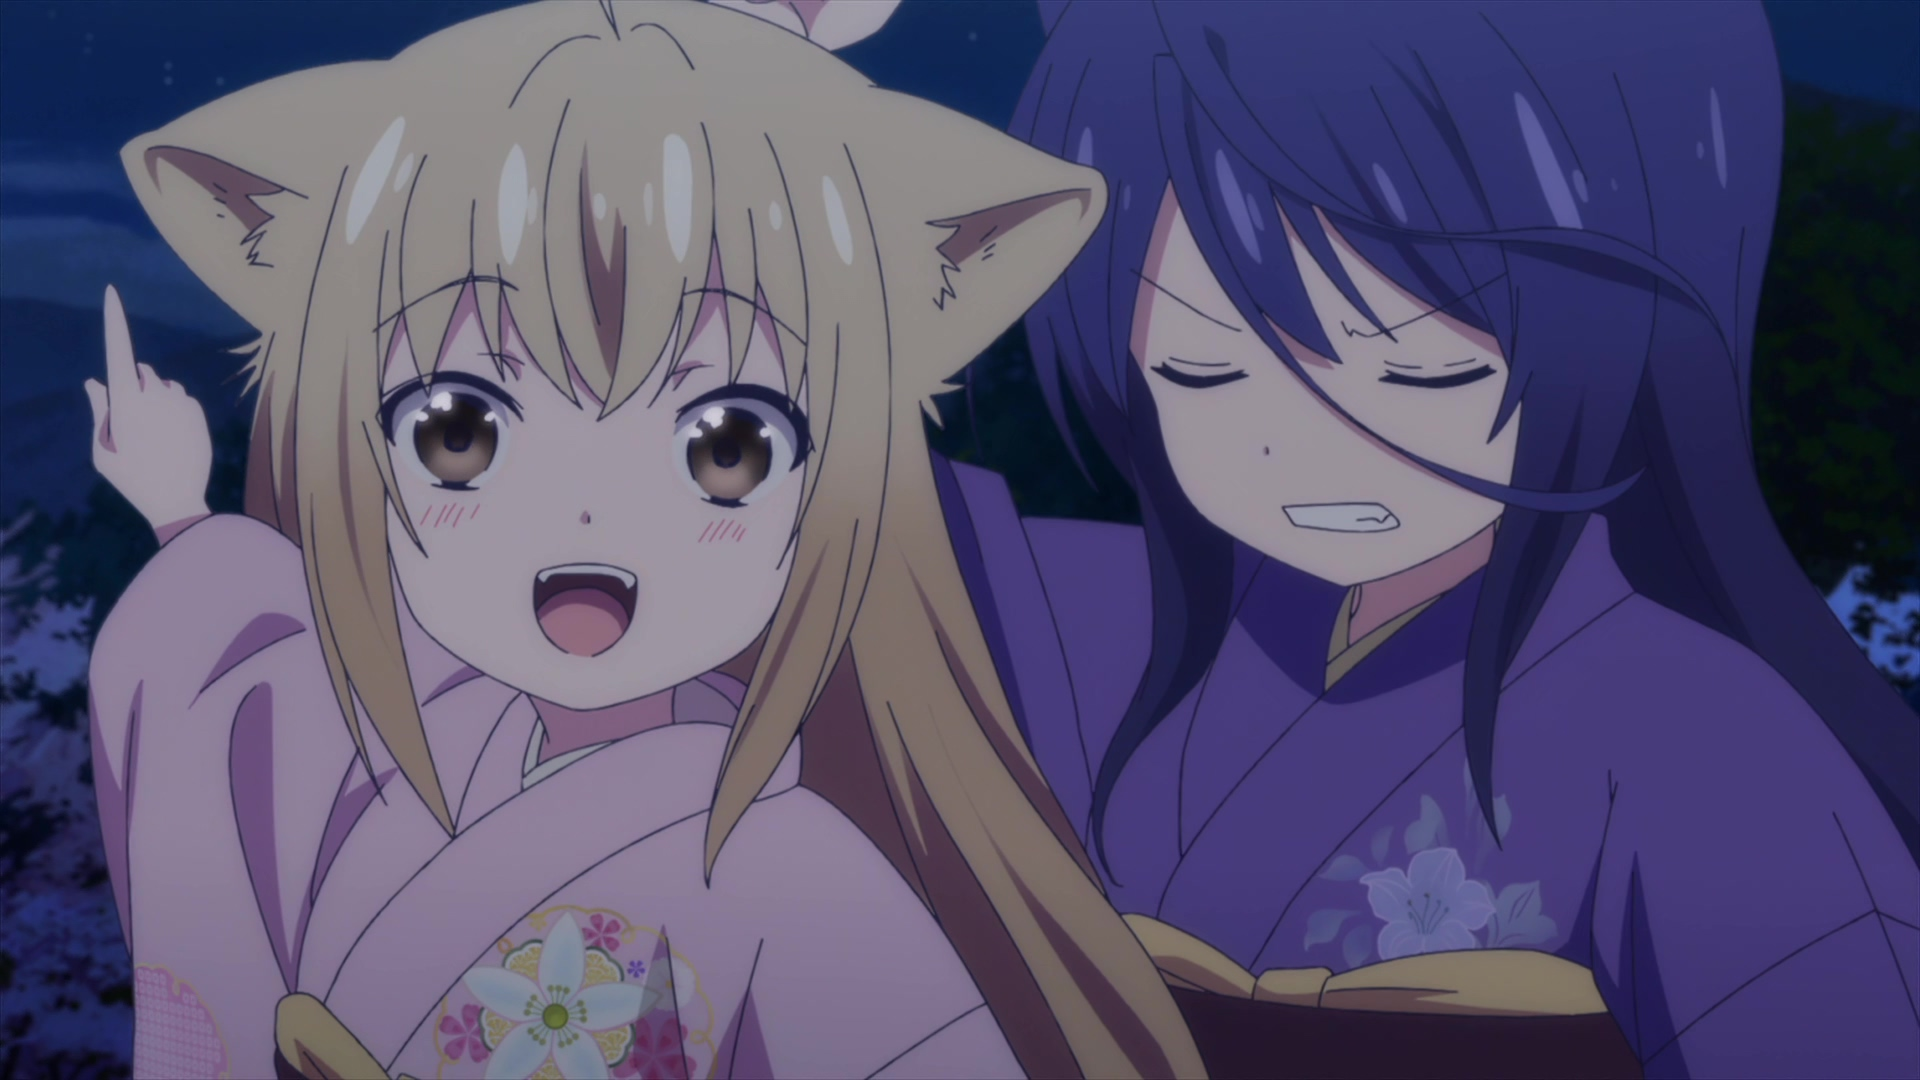柚: (80, 1, 1211, 1080)
皋: (704, 1, 1920, 1080)
